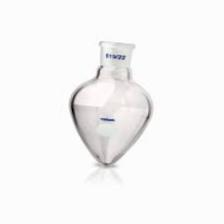Pear shaped flask: (73, 34, 154, 170)
